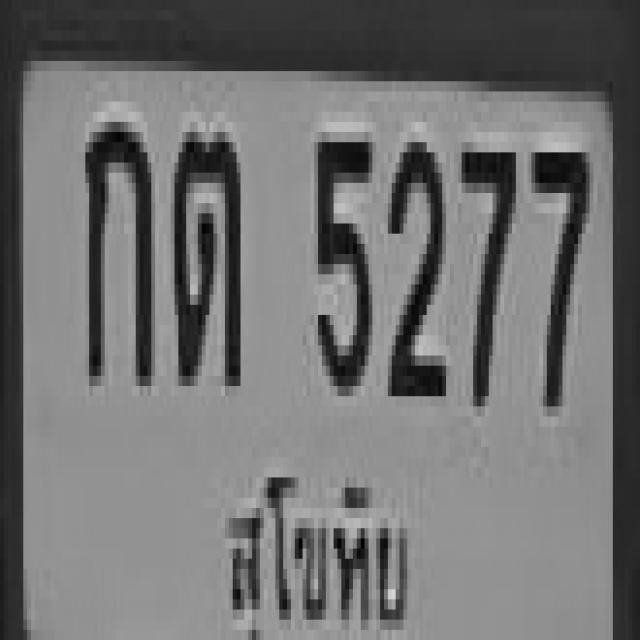10GorGai: (80, 112, 150, 376)
2: (384, 137, 442, 391)
30TorTao: (170, 122, 237, 376)
5: (311, 122, 368, 386)
7: (528, 142, 586, 406), (458, 137, 512, 401)
Sukhothai: (206, 451, 422, 640)
